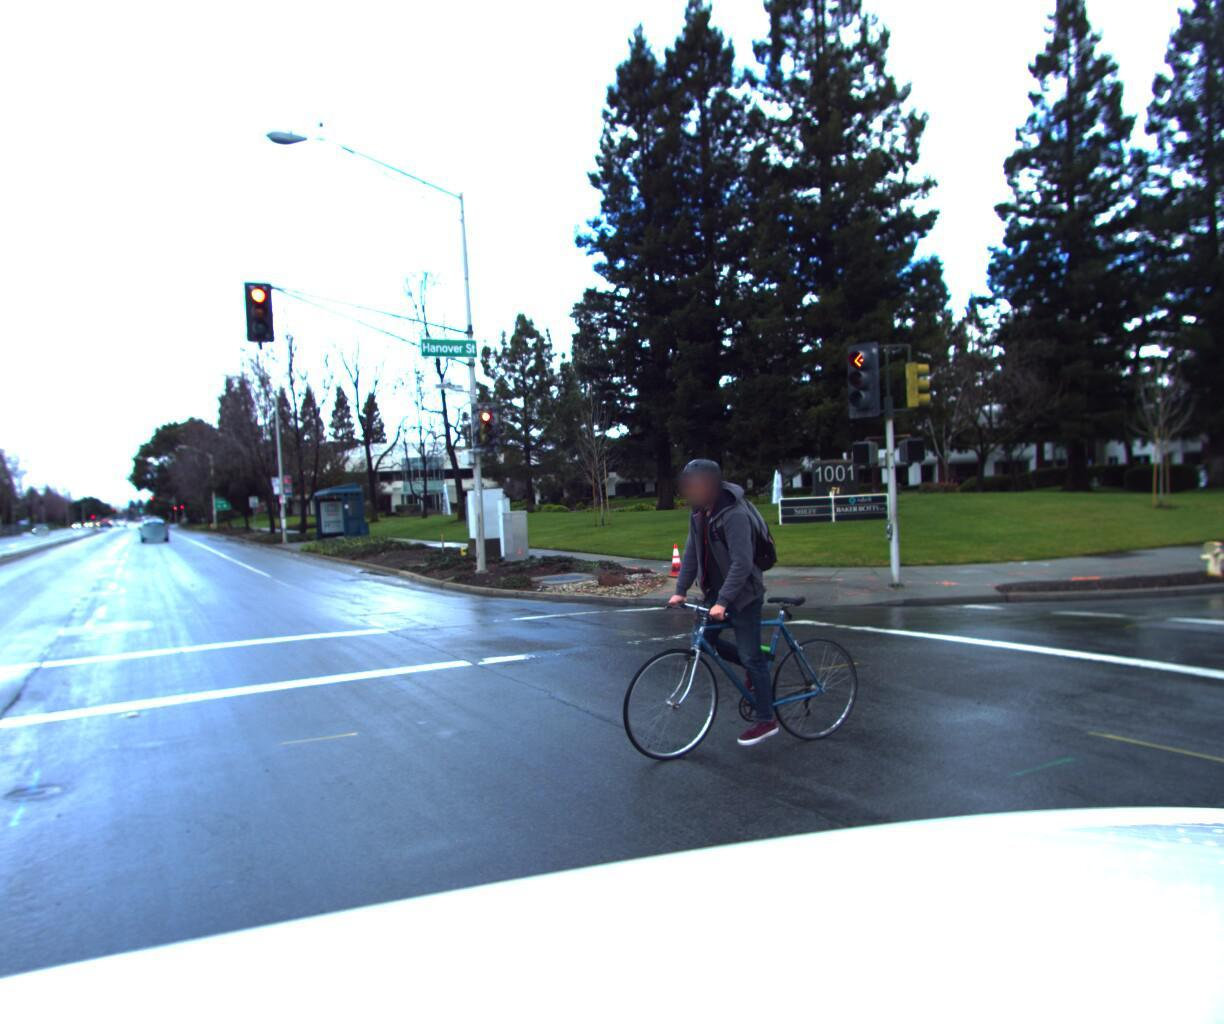bicycle: (562, 456, 899, 804)
car: (137, 517, 169, 542)
